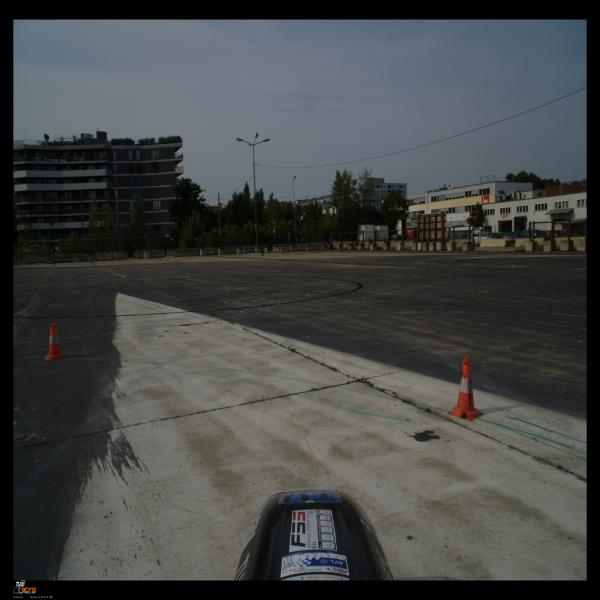orange_cone: (447, 357, 484, 421), (44, 323, 66, 360)
